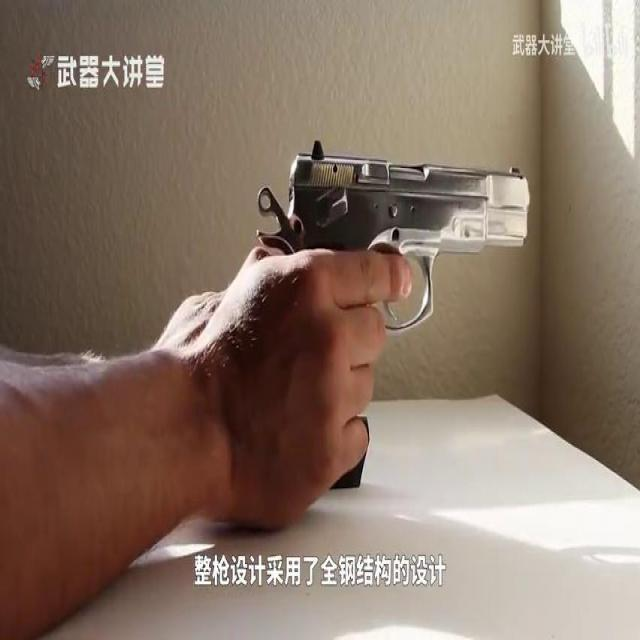Handgun: (270, 135, 532, 429)
